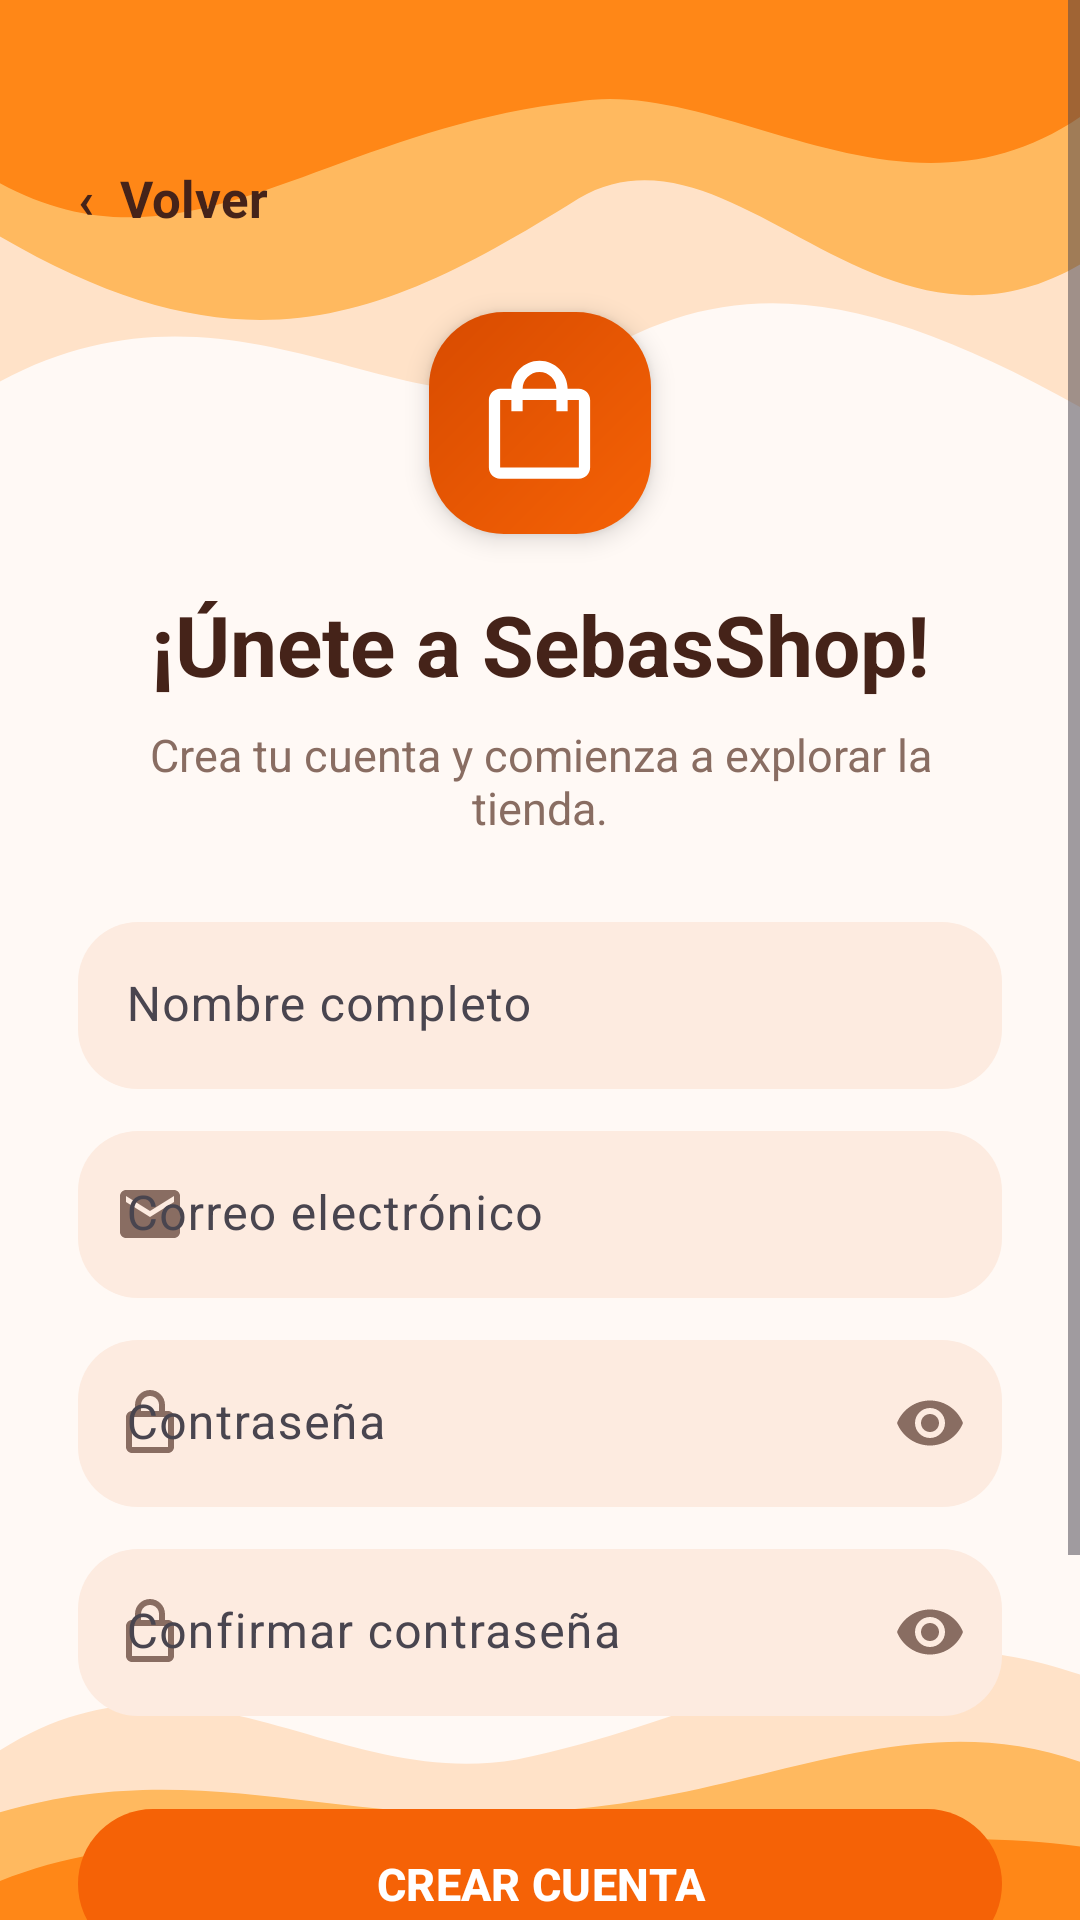

Point at icon controls on the screen. Image size 1080×1920, points as (x,y).
Bolsa de compras de SebasShop: (539,419)
